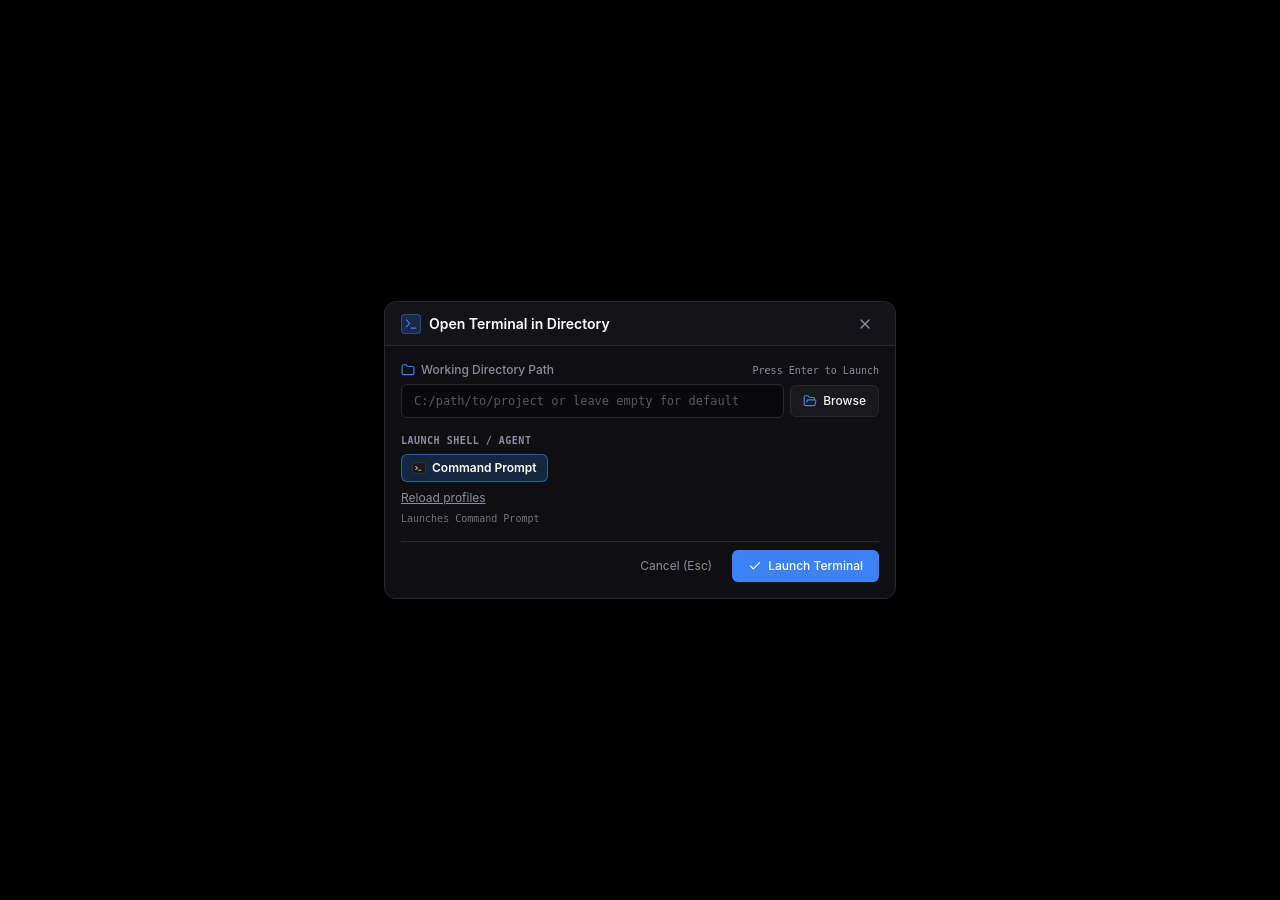
Scenario: shows launch errors inline and keeps input available for retry
This screenshot has width=1280, height=900.
Type "C:/missing" into the field named "Working directory path". click: (593, 401)
box: [401,384,784,418]
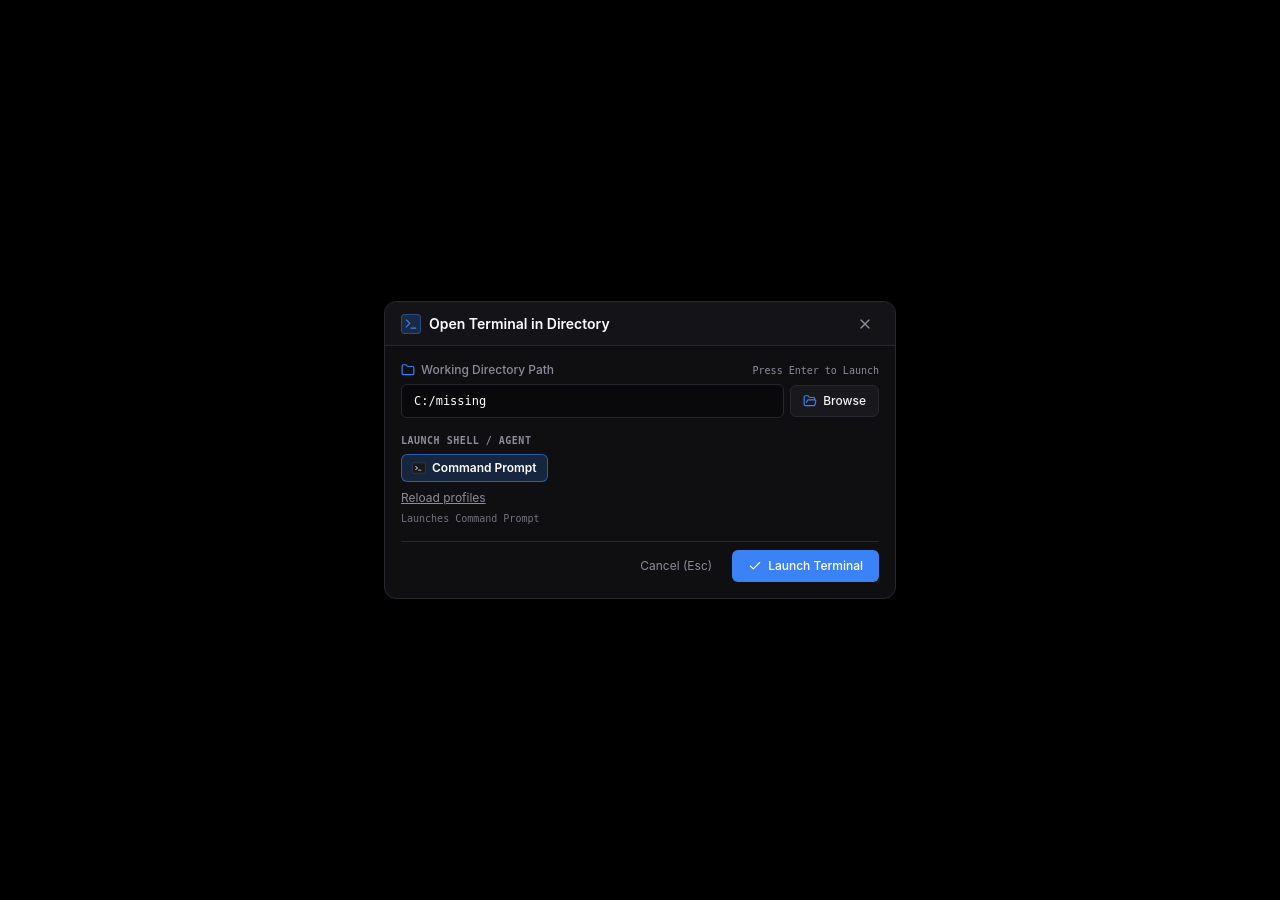
Click the button "Launch Terminal". click: click(806, 566)
box: [732,550,879,582]
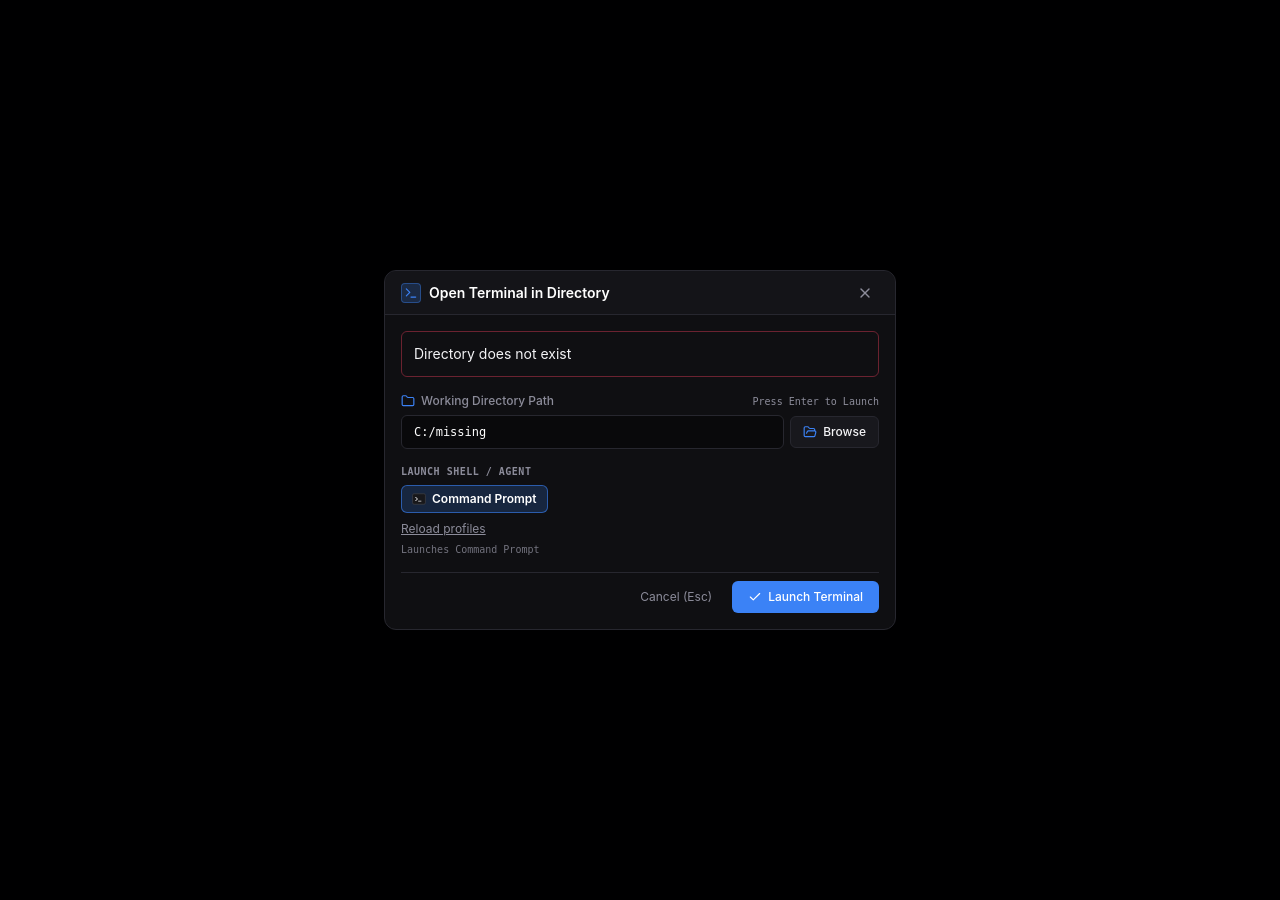
expect the message "Directory does not exist" is shown: met, box [401,331,879,377]
